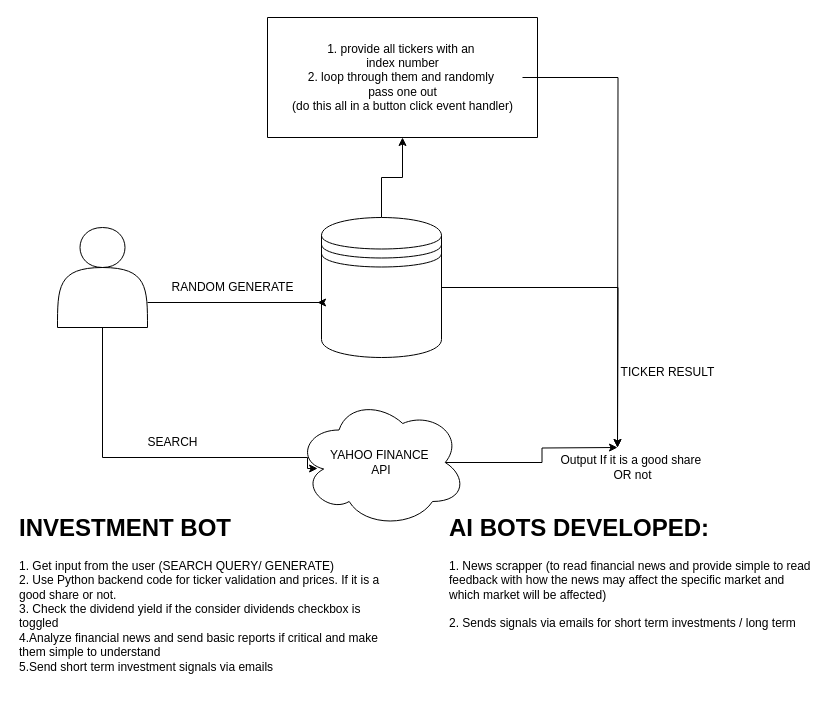
The diagram is 834 pixels wide and 708 high, and some of its shapes have lost their labels. The shapes that lost their labels are listed below. From the top down, each one's centre as x and y in pixels, then its label:
the point at 102,277: USER
the point at 381,287: CSV File with all JSE tickers / 100 of them
